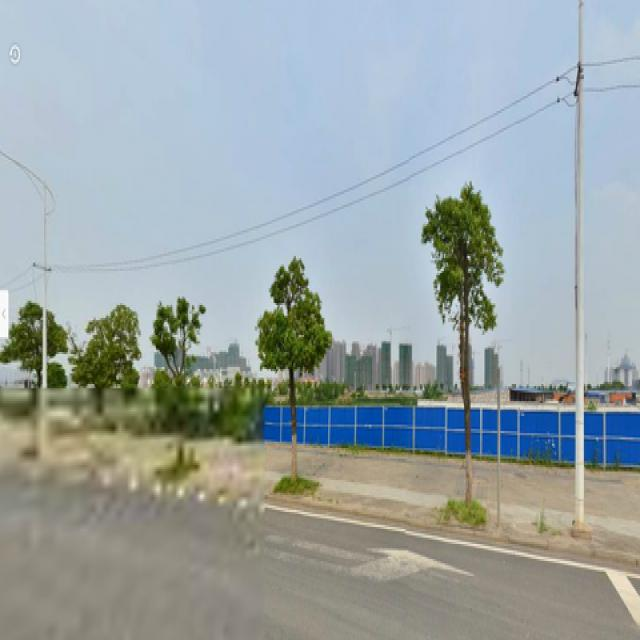cinn: (432, 194, 503, 512), (259, 267, 320, 495)
